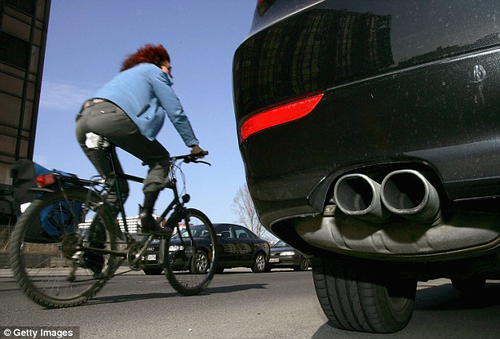bikerider: (6, 27, 225, 313)
